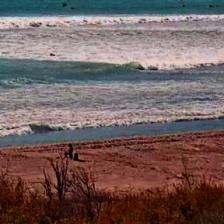surfer: (62, 2, 68, 8), (208, 4, 218, 7), (49, 53, 56, 57), (181, 4, 187, 8), (69, 6, 75, 10)
